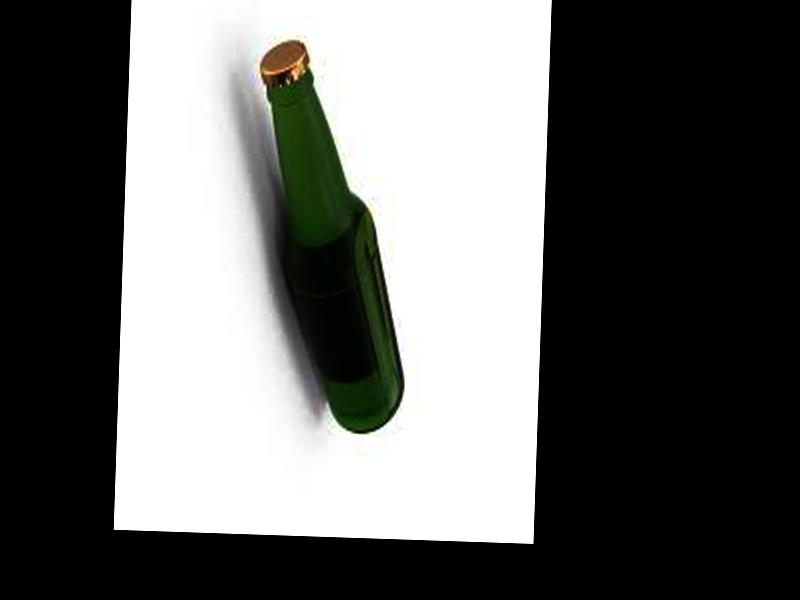Beer: (247, 37, 415, 435)
